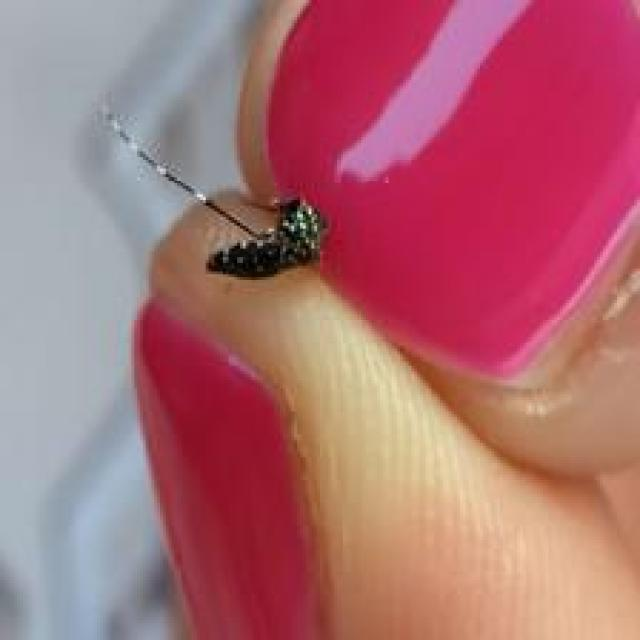Aedes albopictus: (100, 105, 326, 282)
